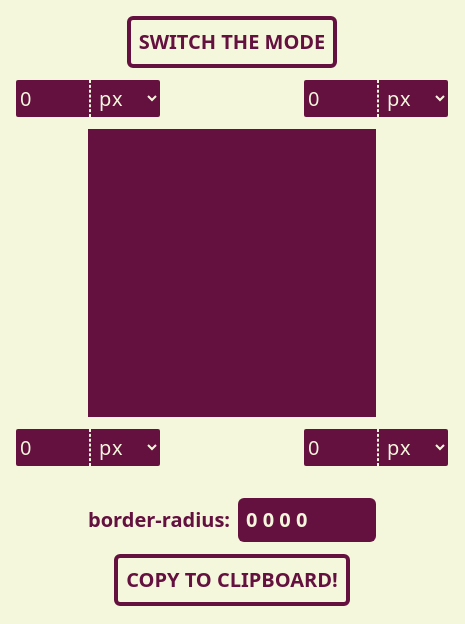
Test: App › should show the error message if an error occurs when clicking the copy button
Click the button "Copy to clipboard!".
click(232, 580)  # box [114,554,350,606]
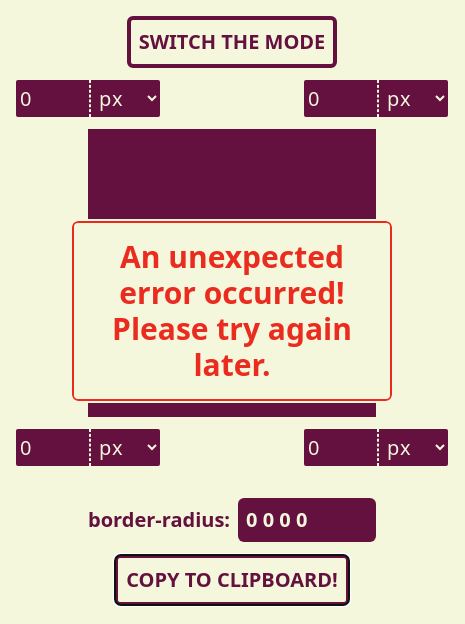
Expected: the message named "copy error" is shown, [72,221,392,401]
